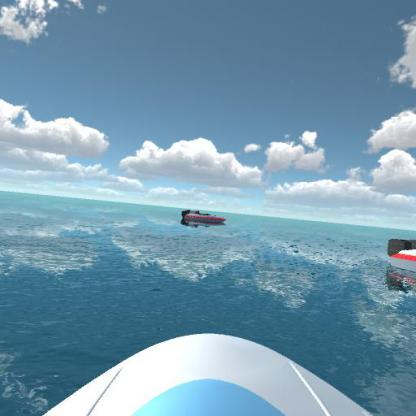usv3: (382, 229, 415, 279), (177, 203, 230, 230)
